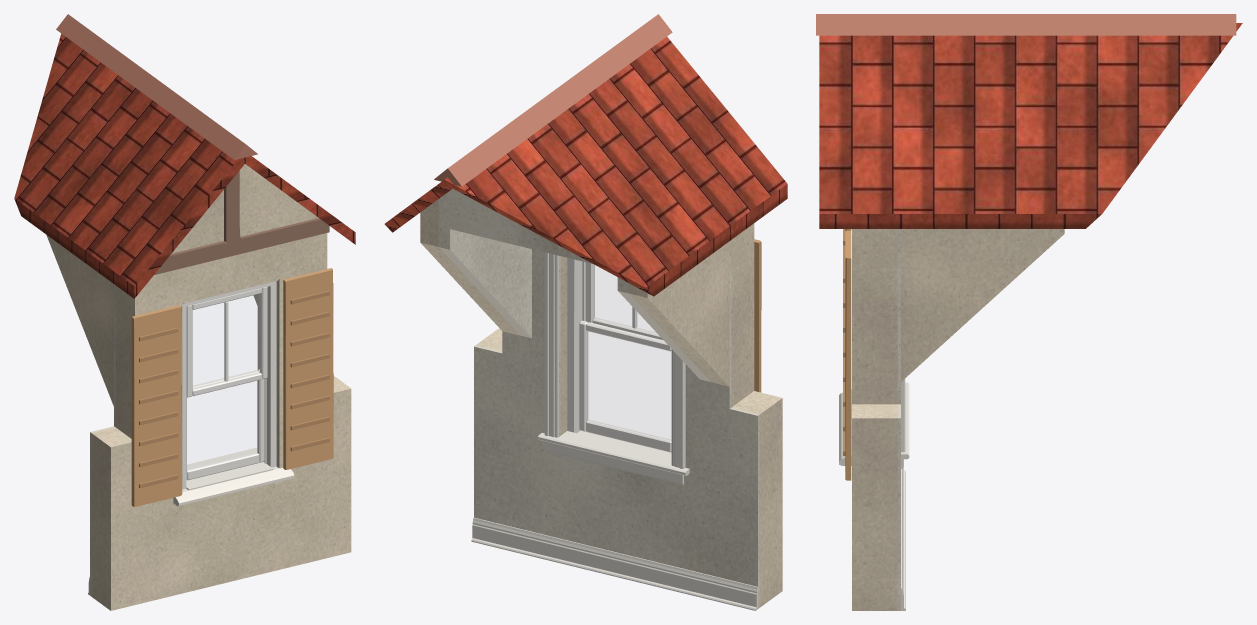
The model's file is knee_wall_dormer.glb.
3 renders of one model, left to right at view 1: azimuth 30°, elevation 25°; view 2: azimuth 150°, elevation 25°; view 3: azimuth 270°, elevation 25°, orthographic. The views are drawn at different scales.
Visible parts, largest first — view 1: knee_wall_dormer_render, knee_wall_dormer_roof_tiles, knee_wall_dormer_shutter, knee_wall_dormer_glass, knee_wall_dormer_ridge, knee_wall_dormer_sash, knee_wall_dormer_timber, knee_wall_dormer_shutter_dark, knee_wall_dormer_frame, knee_wall_dormer_trim, knee_wall_dormer_plaster, molduras; view 2: knee_wall_dormer_plaster, knee_wall_dormer_roof_tiles, knee_wall_dormer_render, molduras, knee_wall_dormer_glass, knee_wall_dormer_ridge, knee_wall_dormer_sash, knee_wall_dormer_frame, knee_wall_dormer_shutter; view 3: knee_wall_dormer_roof_tiles, knee_wall_dormer_render, knee_wall_dormer_ridge, knee_wall_dormer_shutter, knee_wall_dormer_plaster, molduras, knee_wall_dormer_shutter_dark.
Boxes of the visible parts, bbox=[...] form: knee_wall_dormer_render: bbox=[46, 164, 351, 610]; knee_wall_dormer_roof_tiles: bbox=[14, 33, 355, 298]; knee_wall_dormer_shutter: bbox=[131, 268, 333, 506]; knee_wall_dormer_glass: bbox=[187, 294, 260, 469]; knee_wall_dormer_ridge: bbox=[56, 14, 257, 159]; knee_wall_dormer_sash: bbox=[186, 287, 267, 480]; knee_wall_dormer_timber: bbox=[154, 171, 329, 274]; knee_wall_dormer_shutter_dark: bbox=[139, 290, 329, 488]; knee_wall_dormer_frame: bbox=[182, 281, 276, 489]; knee_wall_dormer_trim: bbox=[173, 462, 294, 506]; knee_wall_dormer_plaster: bbox=[90, 284, 259, 596]; molduras: bbox=[88, 294, 258, 595]; knee_wall_dormer_plaster: bbox=[438, 188, 759, 608]; knee_wall_dormer_roof_tiles: bbox=[384, 37, 787, 296]; knee_wall_dormer_render: bbox=[420, 199, 782, 607]; molduras: bbox=[471, 252, 757, 610]; knee_wall_dormer_glass: bbox=[587, 265, 670, 439]; knee_wall_dormer_ridge: bbox=[434, 14, 672, 186]; knee_wall_dormer_sash: bbox=[579, 262, 671, 452]; knee_wall_dormer_frame: bbox=[567, 258, 585, 433]; knee_wall_dormer_shutter: bbox=[754, 239, 761, 392]; knee_wall_dormer_roof_tiles: bbox=[819, 23, 1242, 228]; knee_wall_dormer_render: bbox=[852, 229, 1064, 610]; knee_wall_dormer_ridge: bbox=[816, 14, 1236, 35]; knee_wall_dormer_shutter: bbox=[845, 229, 851, 480]; knee_wall_dormer_plaster: bbox=[897, 229, 900, 610]; molduras: bbox=[901, 378, 909, 610]; knee_wall_dormer_shutter_dark: bbox=[843, 229, 845, 455].
Bounding box in the file's own units: 2 × 3.56 × 2.61.
Materials: 11 (3 with a texture image).
